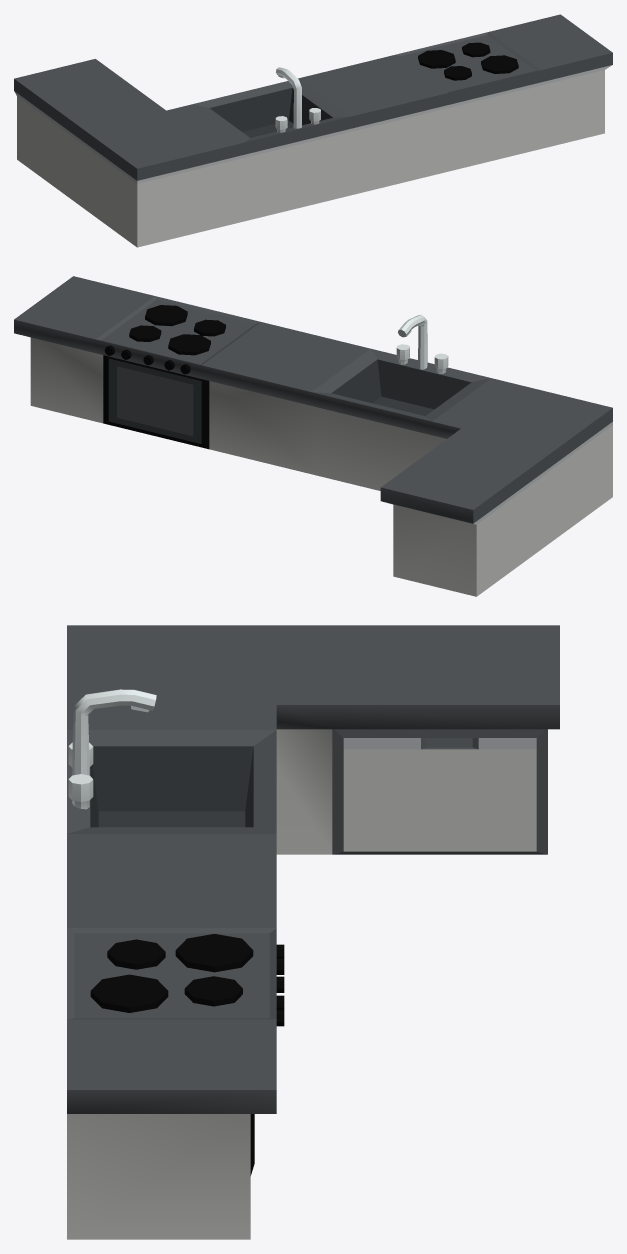
File: counter.fbx
3 renders of one model, top to bottom at view 1: azimuth 30°, elevation 25°; view 2: azimuth 150°, elevation 25°; view 3: azimuth 270°, elevation 25°, orthographic. The views are drawn at different scales.
Visible parts, largest first — view 1: counter; view 2: counter; view 3: counter.
Part boxes in pixels (<box>): counter: <box>14,14,612,247</box>; counter: <box>14,276,612,596</box>; counter: <box>67,625,559,1239</box>.
Size of the model in its own units: 16.71 by 4.25 by 7.5.
Materials: 1 (1 with a texture image).
